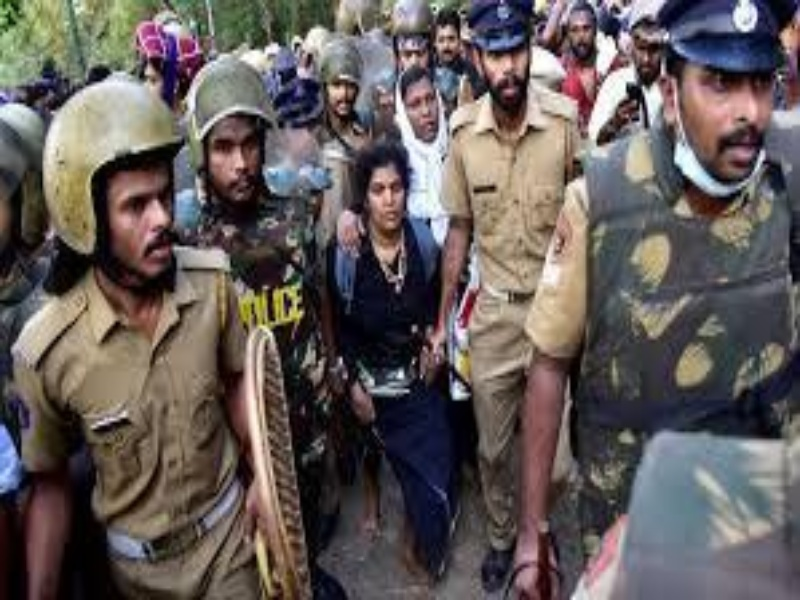helmet: (41, 78, 186, 255), (187, 58, 279, 130), (322, 38, 364, 86), (391, 1, 434, 34)
